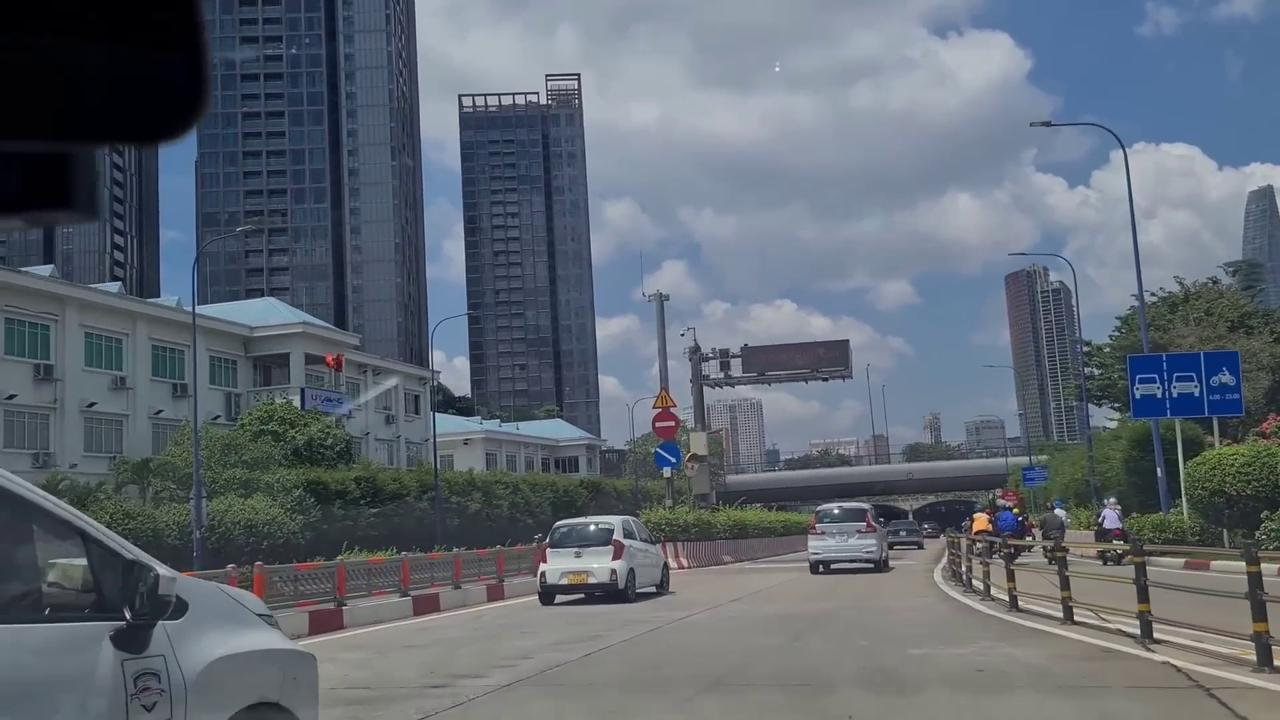Cấm đi ngược chiều: (652, 410, 680, 440)
Hướng phải đi vòng sang phải: (653, 440, 682, 470)
Làn đường cho từng xe: (1126, 352, 1246, 419)
Đuờng hẹp: (652, 385, 677, 409)
